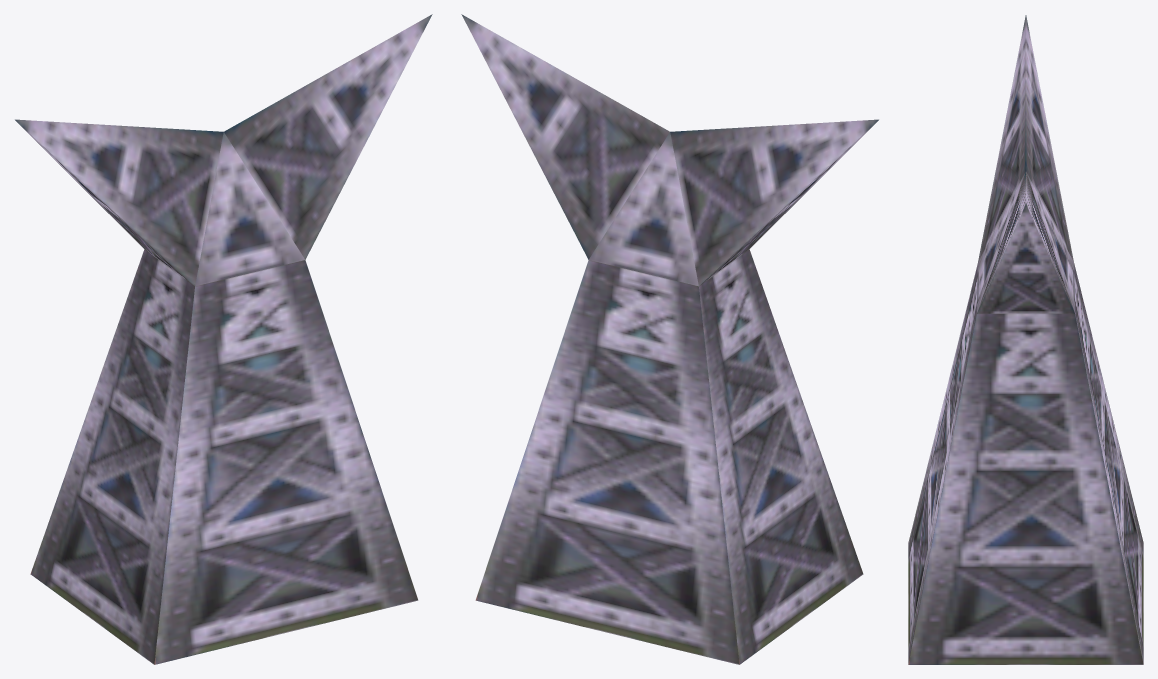
File: Elec_Tower02.glb
The picture shows the model from 3 angles, left to right: view 1: azimuth 30°, elevation 25°; view 2: azimuth 150°, elevation 25°; view 3: azimuth 270°, elevation 25°; orthographic projection. The views are drawn at different scales.
Parts seen in each view (by area): view 1: Elec_Tower02; view 2: Elec_Tower02; view 3: Elec_Tower02.
Boxes of the visible parts, <box> form: Elec_Tower02: <box>15,14,432,664</box>; Elec_Tower02: <box>461,14,878,664</box>; Elec_Tower02: <box>908,15,1143,664</box>.
Bounding box in the file's own units: 1643 × 1960 × 843.
Materials: 1 (1 with a texture image).
